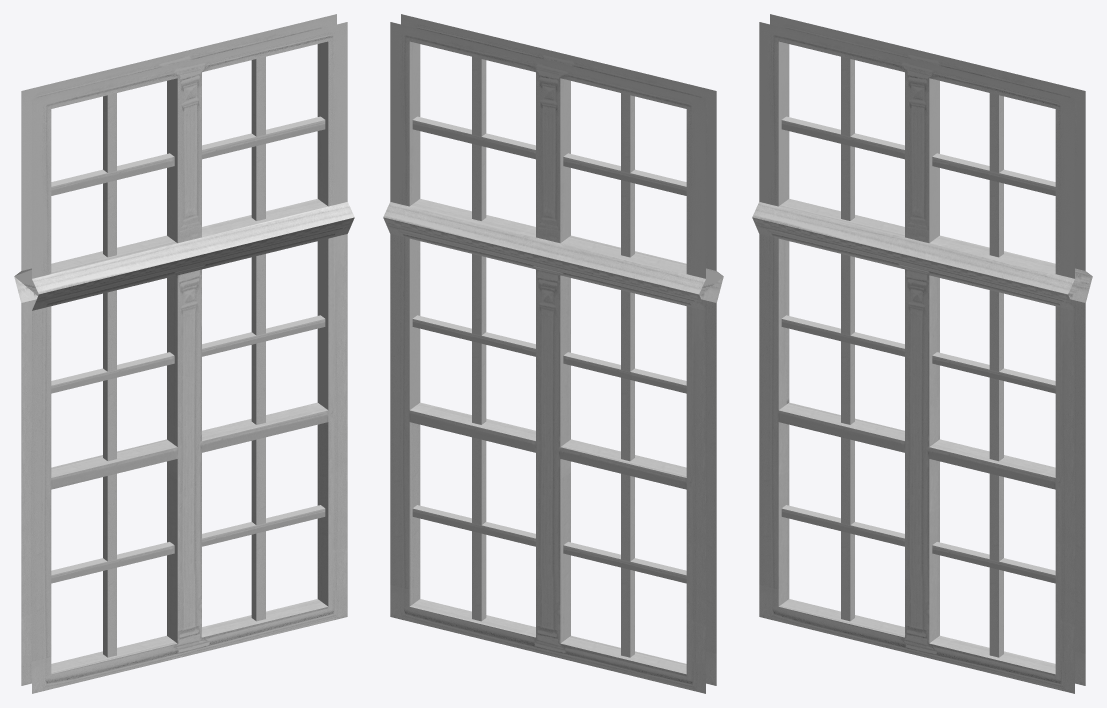
The model's file is Window1B.fbx.
The picture shows the model from 3 angles, left to right: view 1: azimuth 30°, elevation 25°; view 2: azimuth 150°, elevation 25°; view 3: azimuth 330°, elevation 25°; orthographic projection.
Visible parts, largest first — view 1: Window1B; view 2: Window1B; view 3: Window1B.
Boxes of the visible parts, x1,y1,x2,y2 form: Window1B: (14,14,354,693); Window1B: (383,14,723,693); Window1B: (752,14,1092,693).
Bounding box in the file's own units: 100 × 180 × 13.57.
